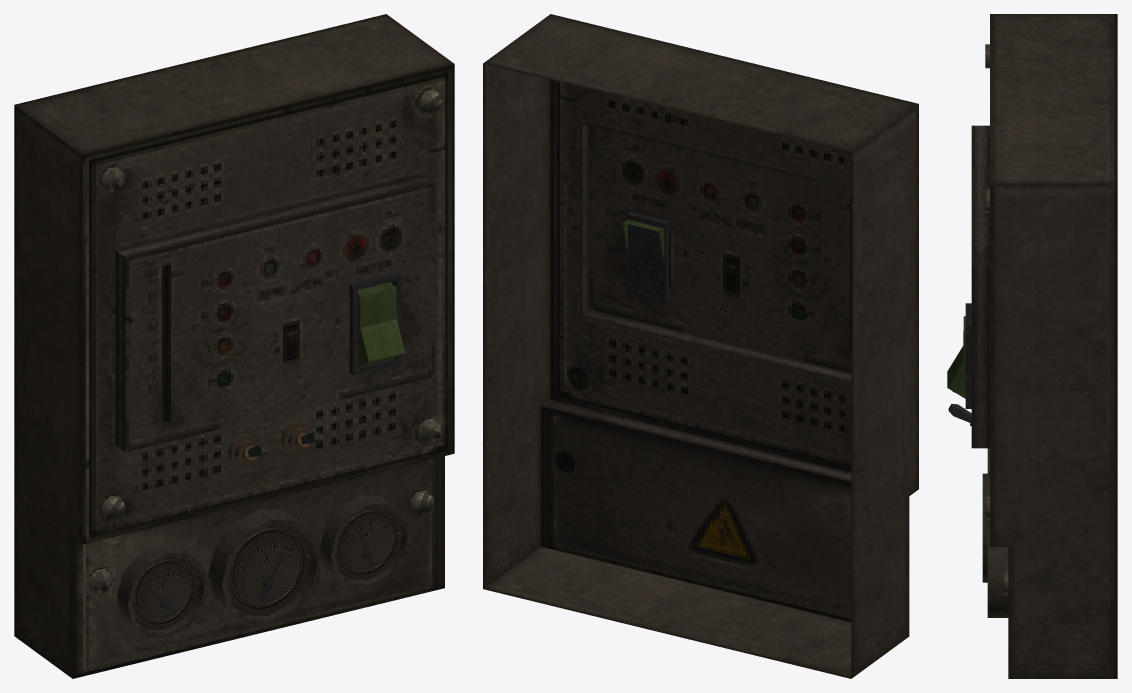
Rendered from panel_etx_1_1.glb.
The picture shows the model from 3 angles, left to right: view 1: azimuth 30°, elevation 25°; view 2: azimuth 150°, elevation 25°; view 3: azimuth 270°, elevation 25°; orthographic projection. The views are drawn at different scales.
Visible parts, largest first — view 1: panel_etx_1_1, panel_etx_1_1_button_child; view 2: panel_etx_1_1; view 3: panel_etx_1_1, panel_etx_1_1_button_child, switch_etx_1_child_1.004.
Part boxes in pixels (x1,y1,x2,y2): panel_etx_1_1: (14, 14, 454, 678); panel_etx_1_1_button_child: (358, 282, 405, 366); panel_etx_1_1: (483, 14, 918, 678); panel_etx_1_1: (965, 14, 1117, 678); panel_etx_1_1_button_child: (947, 316, 965, 398); switch_etx_1_child_1.004: (948, 404, 971, 425).
Size of the model in its own units: 0.44 by 0.6 by 0.1866.
2 materials, 2 textured.
